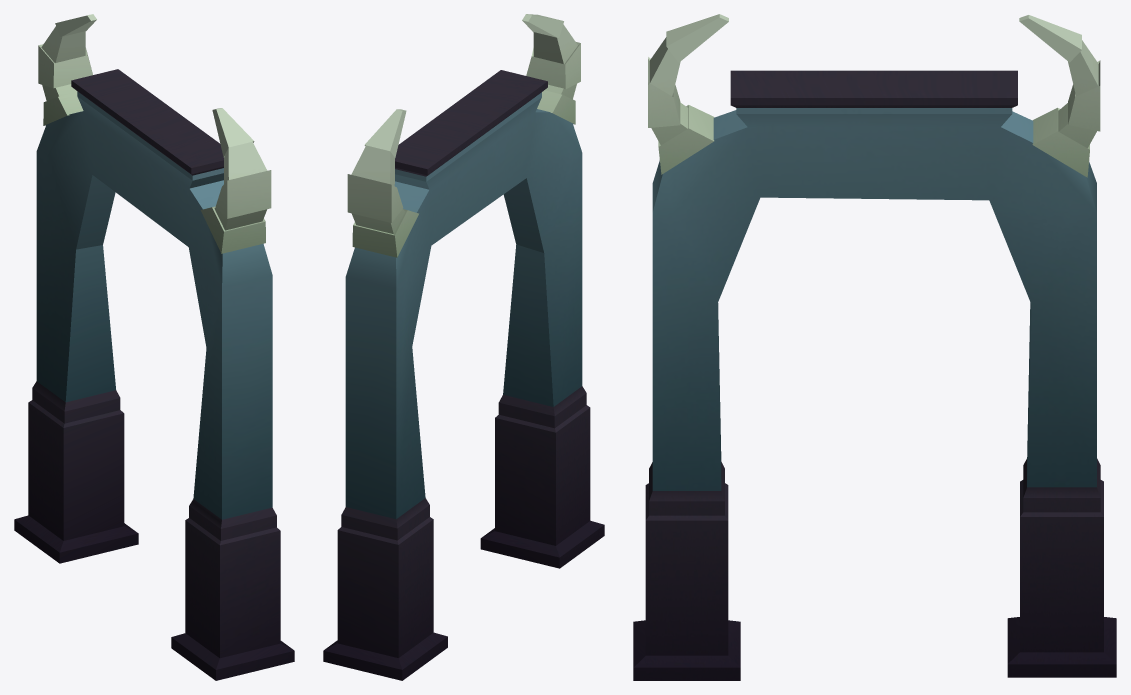
File: Portal_2.fbx
The picture shows the model from 3 angles, left to right: view 1: azimuth 30°, elevation 25°; view 2: azimuth 150°, elevation 25°; view 3: azimuth 270°, elevation 25°; orthographic projection. The views are drawn at different scales.
Parts seen in each view (by area): view 1: Portal; view 2: Portal; view 3: Portal.
Part boxes in pixels (x1=…): Portal: x1=14, y1=14, x2=294, y2=680; Portal: x1=323, y1=14, x2=604, y2=680; Portal: x1=633, y1=14, x2=1116, y2=680.
Size of the model in its own units: 2.34 by 15.24 by 10.39.
